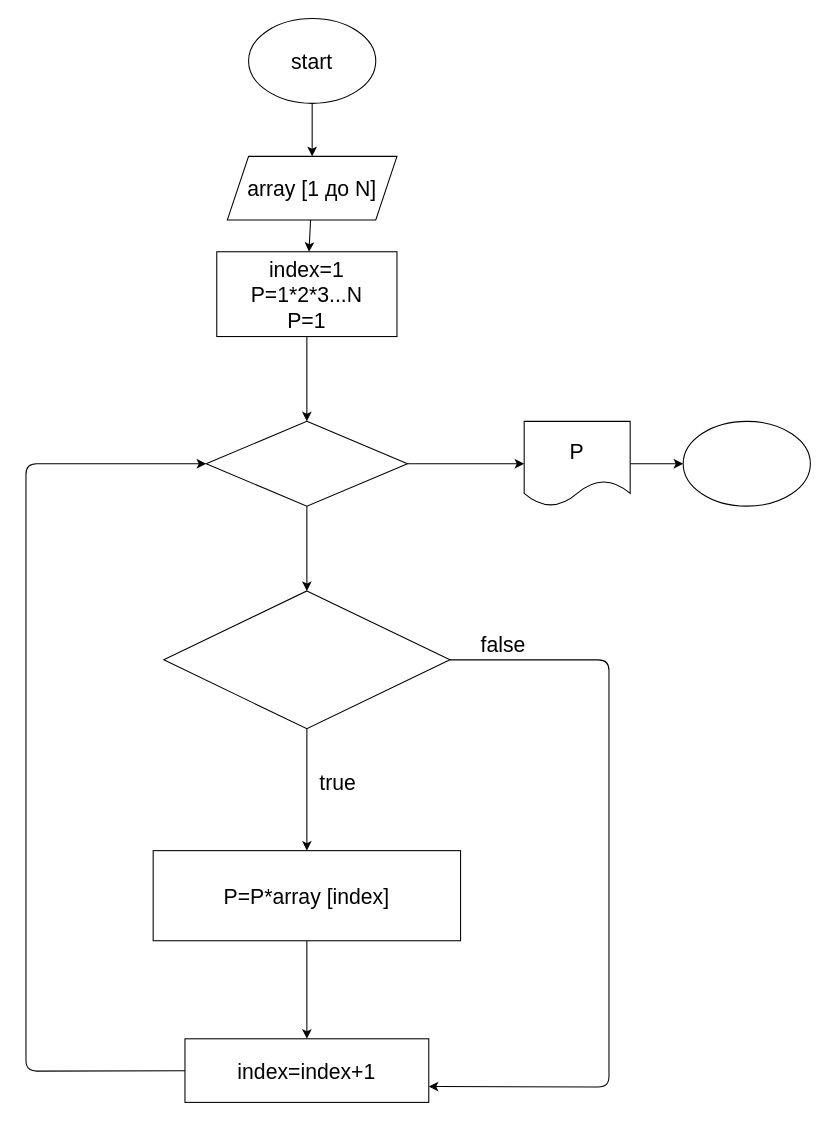
Some shapes in this 829 by 1121 pixel diagram are drawn without their labels. Here are the shapes that lost their labels. From the top down, the centre of each, then its label:
At [306,463]: "index<N".
At [746,463]: "End".
At [306,659]: "array [index]/3 или 5?".
